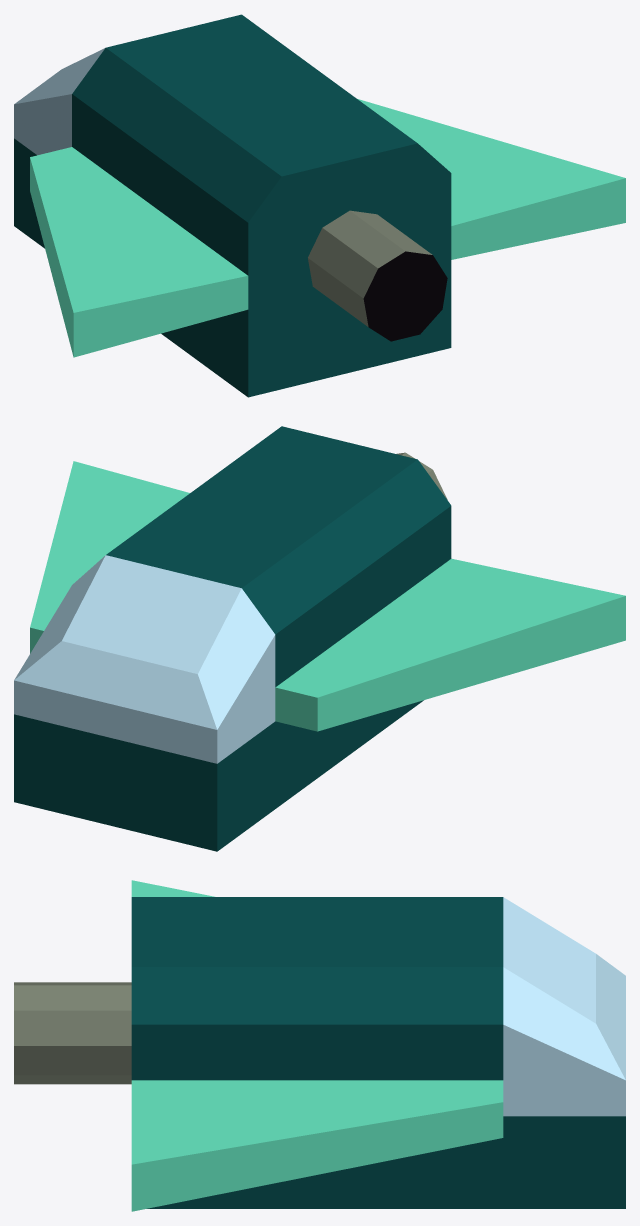
File: ship.fbx
3 views of the same model, one above another, from view 1: azimuth 30°, elevation 25°; view 2: azimuth 150°, elevation 25°; view 3: azimuth 270°, elevation 25° (orthographic). The views are drawn at different scales.
Parts seen in each view (by area): view 1: Ship, Cylinder; view 2: Ship; view 3: Ship, Cylinder.
Part boxes in pixels (left/top/right/bottom): Ship: left=14, top=14, right=625, bottom=397; Cylinder: left=308, top=210, right=447, bottom=341; Ship: left=14, top=426, right=625, bottom=851; Ship: left=131, top=880, right=625, bottom=1211; Cylinder: left=14, top=982, right=131, bottom=1084.
Size of the model in its own units: 543 by 200 by 494.
